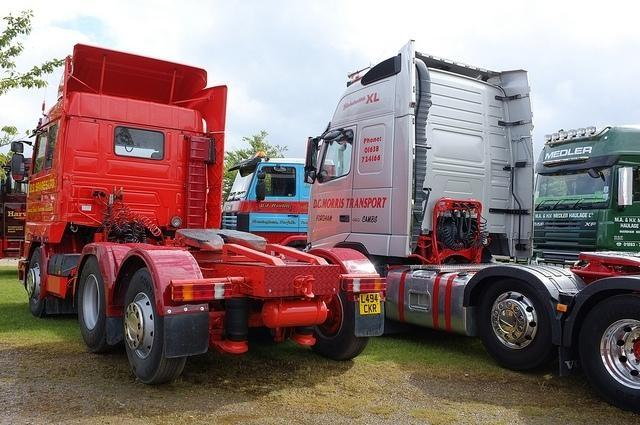truck: (304, 40, 640, 414), (19, 46, 386, 387), (535, 123, 640, 260), (221, 148, 310, 251)
